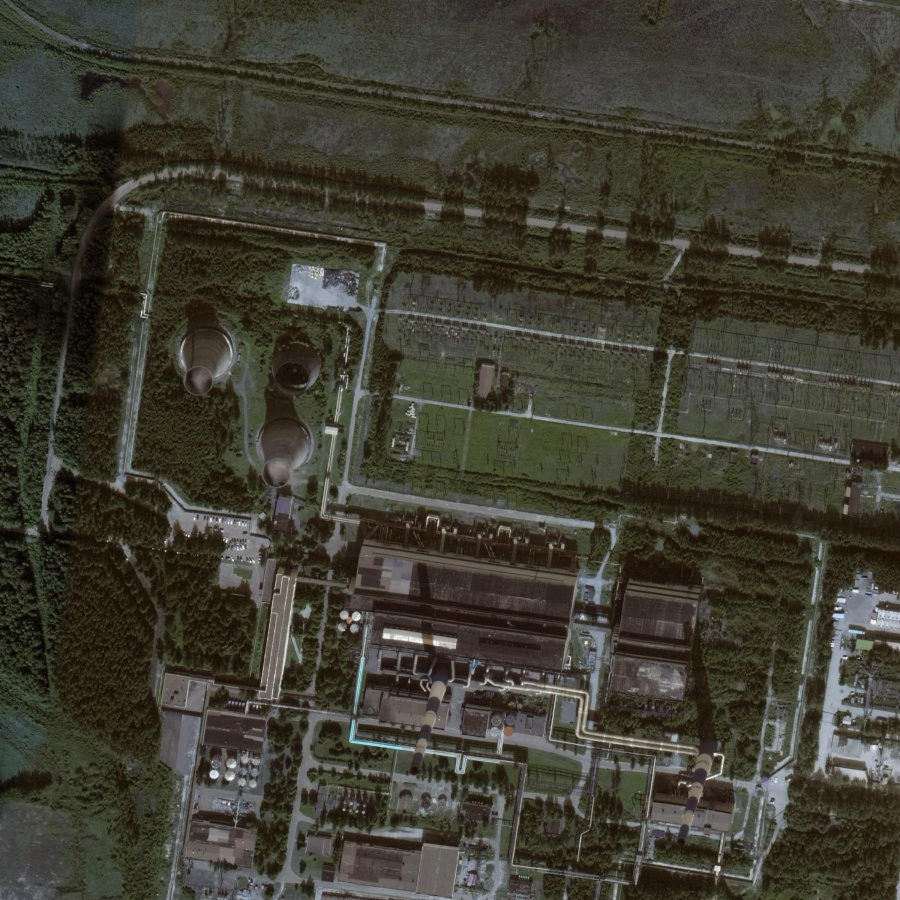PowerPlant: (363, 542, 721, 862), (152, 264, 351, 510)
